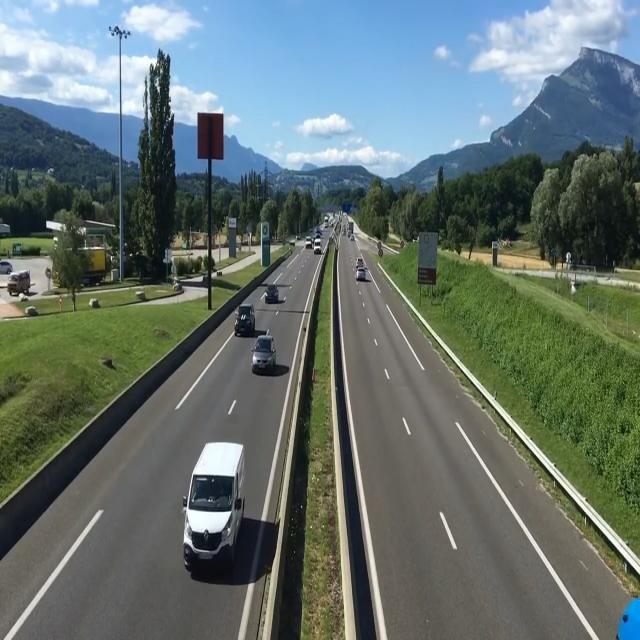car: (188, 431, 258, 609), (253, 327, 280, 377), (234, 298, 258, 340), (353, 258, 369, 286), (264, 282, 278, 310), (310, 236, 323, 260)
